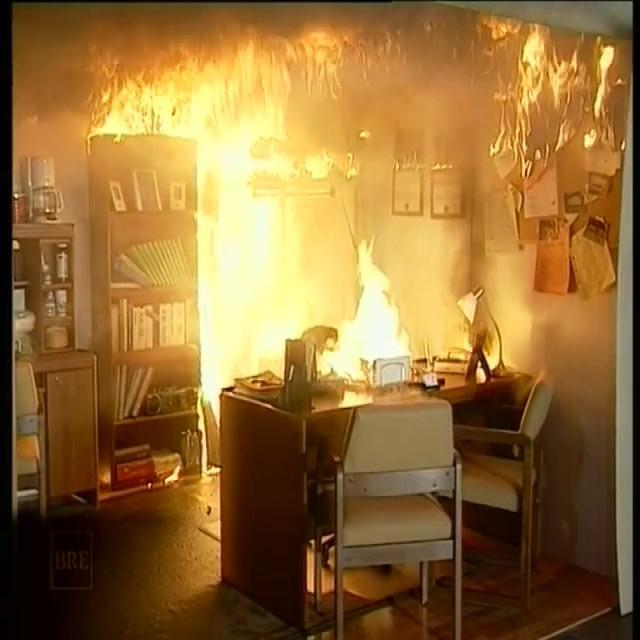Fire: (84, 42, 349, 178), (482, 17, 622, 185), (338, 244, 420, 374)
